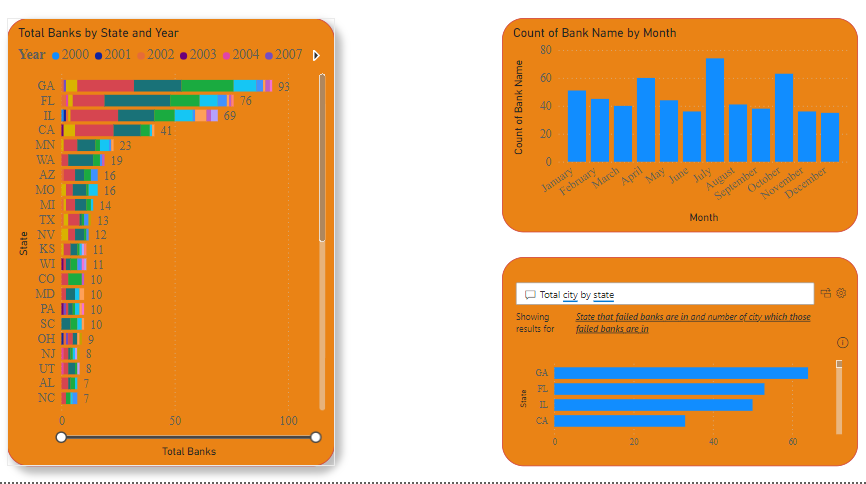

The dashboard page shown, as its layout file describes it:
{"tool":"powerbi","page":{"name":"Report Summary","canvas":[1280,720],"ordinal":0},"visuals":[{"type":"columnChart","fields":{"Category":["calanderr.Month"],"Y":["CountNonNull(Failed Banks.Bank Name )"]},"box":[743.2,81.2,490,294.5],"z":0},{"type":"barChart","fields":{"Category":["Failed Banks.State "],"Y":["Failed Banks.Total Banks"],"Series":["Failed Banks.Year"]},"box":[61.9,81.2,451.4,616.6],"z":1},{"type":"qnaVisual","box":[743.2,410.2,490,287.7],"z":2}]}

Visuals, with their boxes in screenshot pixels (x1, y1, x2, y2), scaled from the page's 1280x720 canvas onto the 866x484 screenshot:
columnChart - calanderr.Month x CountNonNull(Failed Banks.Bank Name ): 503 55 834 253
barChart - Failed Banks.State  x Failed Banks.Total Banks: 42 55 347 469
qnaVisual: 503 276 834 469
